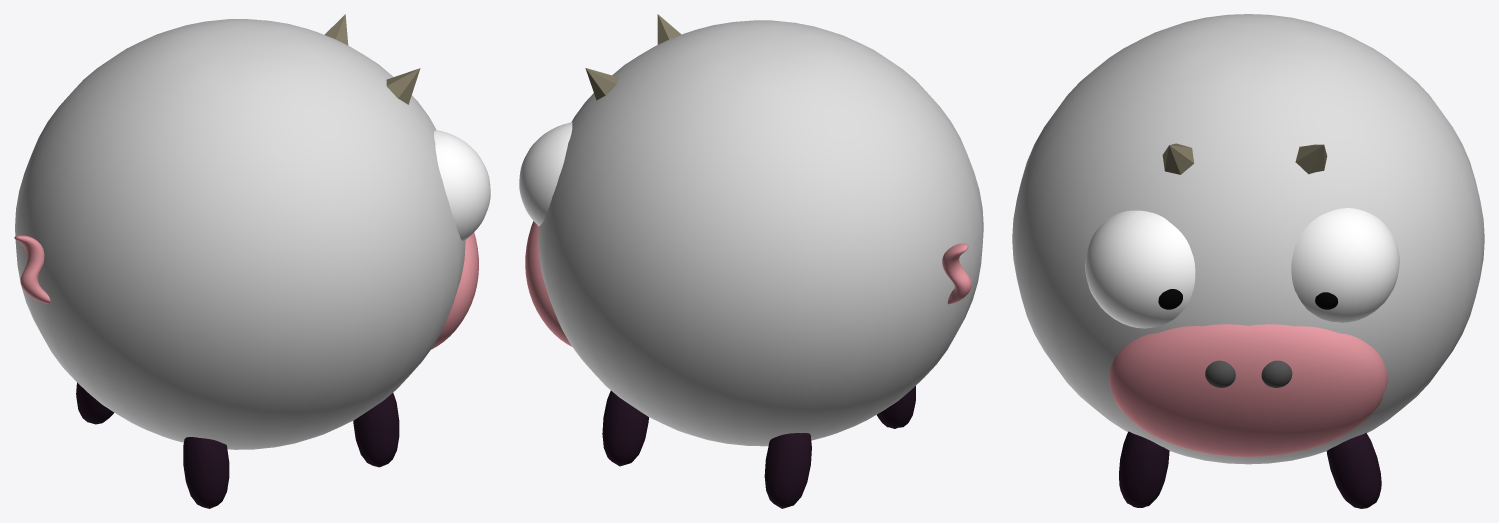
File: cow.glb
3 views of the same model, side by side, from view 1: azimuth 30°, elevation 25°; view 2: azimuth 150°, elevation 25°; view 3: azimuth 270°, elevation 25° (orthographic). The views are drawn at different scales.
Parts seen in each view (by area): view 1: body, eye_main, leg, leg.001, nose, tail, leg.003, horn.001; view 2: body, eye_main.001, leg.003, leg.002, nose, tail, leg, horn; view 3: body, nose, eye_main, eye_main.001, leg.002, leg.001, horn.001, horn, nose_dot.001, nose_dot.
Boxes of the visible parts, x1=… form: body: x1=15, y1=19, x2=465, y2=449; eye_main: x1=434, y1=130, x2=490, y2=240; leg: x1=183, y1=437, x2=229, y2=508; leg.001: x1=353, y1=393, x2=399, y2=467; nose: x1=431, y1=232, x2=478, y2=349; tail: x1=14, y1=235, x2=50, y2=303; leg.003: x1=76, y1=382, x2=114, y2=424; horn.001: x1=386, y1=68, x2=420, y2=104; body: x1=538, y1=20, x2=983, y2=446; eye_main.001: x1=519, y1=122, x2=572, y2=226; leg.003: x1=764, y1=433, x2=811, y2=508; leg.002: x1=602, y1=390, x2=648, y2=466; nose: x1=525, y1=221, x2=571, y2=346; tail: x1=942, y1=243, x2=971, y2=304; leg: x1=877, y1=386, x2=915, y2=428; horn: x1=585, y1=68, x2=618, y2=100; body: x1=1012, y1=14, x2=1484, y2=464; nose: x1=1109, y1=324, x2=1387, y2=456; eye_main: x1=1085, y1=210, x2=1195, y2=328; eye_main.001: x1=1291, y1=208, x2=1399, y2=322; leg.002: x1=1326, y1=433, x2=1381, y2=508; leg.001: x1=1119, y1=431, x2=1169, y2=507; horn.001: x1=1162, y1=143, x2=1194, y2=174; horn: x1=1295, y1=144, x2=1327, y2=174; nose_dot.001: x1=1261, y1=360, x2=1292, y2=387; nose_dot: x1=1205, y1=360, x2=1235, y2=387.
Size of the model in its own units: 1.93 by 1.75 by 1.76.
